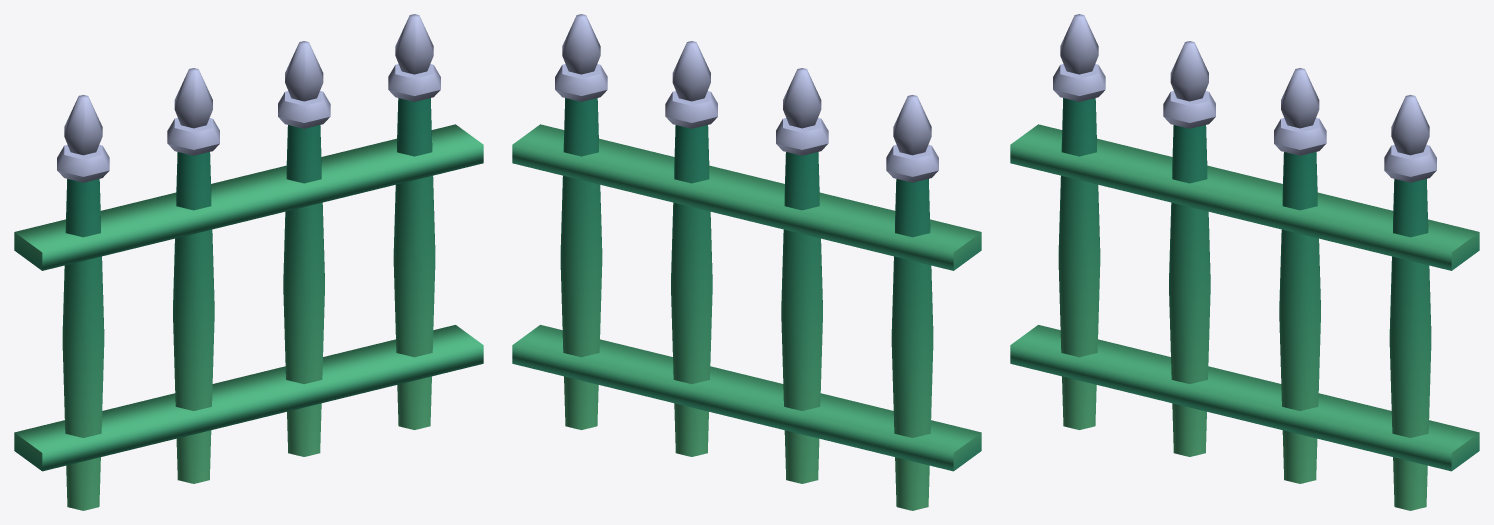
Rendered from iron-fence.glb.
3 views of the same model, side by side, from view 1: azimuth 30°, elevation 25°; view 2: azimuth 150°, elevation 25°; view 3: azimuth 330°, elevation 25° (orthographic).
Parts seen in each view (by area): view 1: iron-fence; view 2: iron-fence; view 3: iron-fence.
Boxes of the visible parts, x1,y1,x2,y2 form: iron-fence: (14,14,483,510); iron-fence: (512,14,981,510); iron-fence: (1010,14,1479,510).
Bounding box in the file's own units: 20 × 17.58 × 2.2.
1 material, 1 textured.
